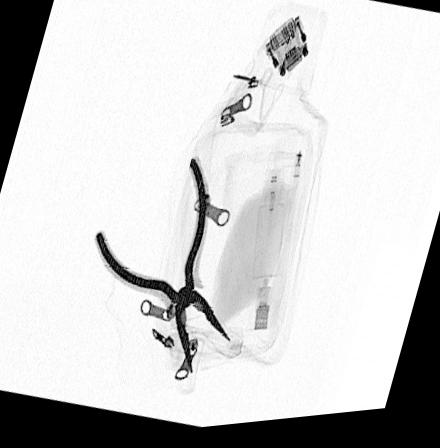Pliers: (91, 158, 232, 379)
